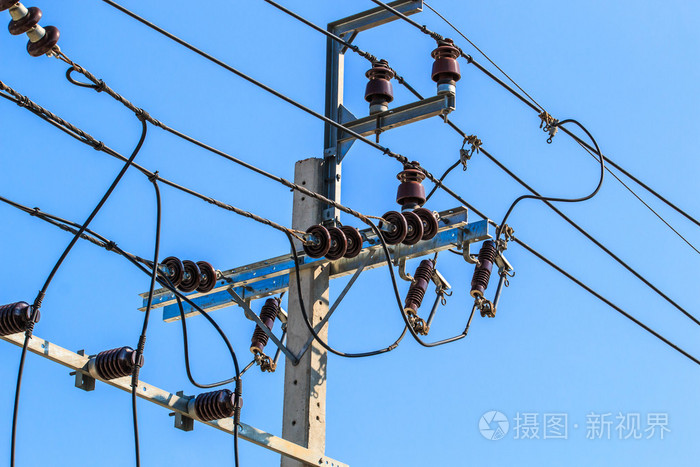insulator: (1, 1, 59, 57), (379, 208, 442, 246), (301, 222, 359, 261), (159, 257, 219, 294)
